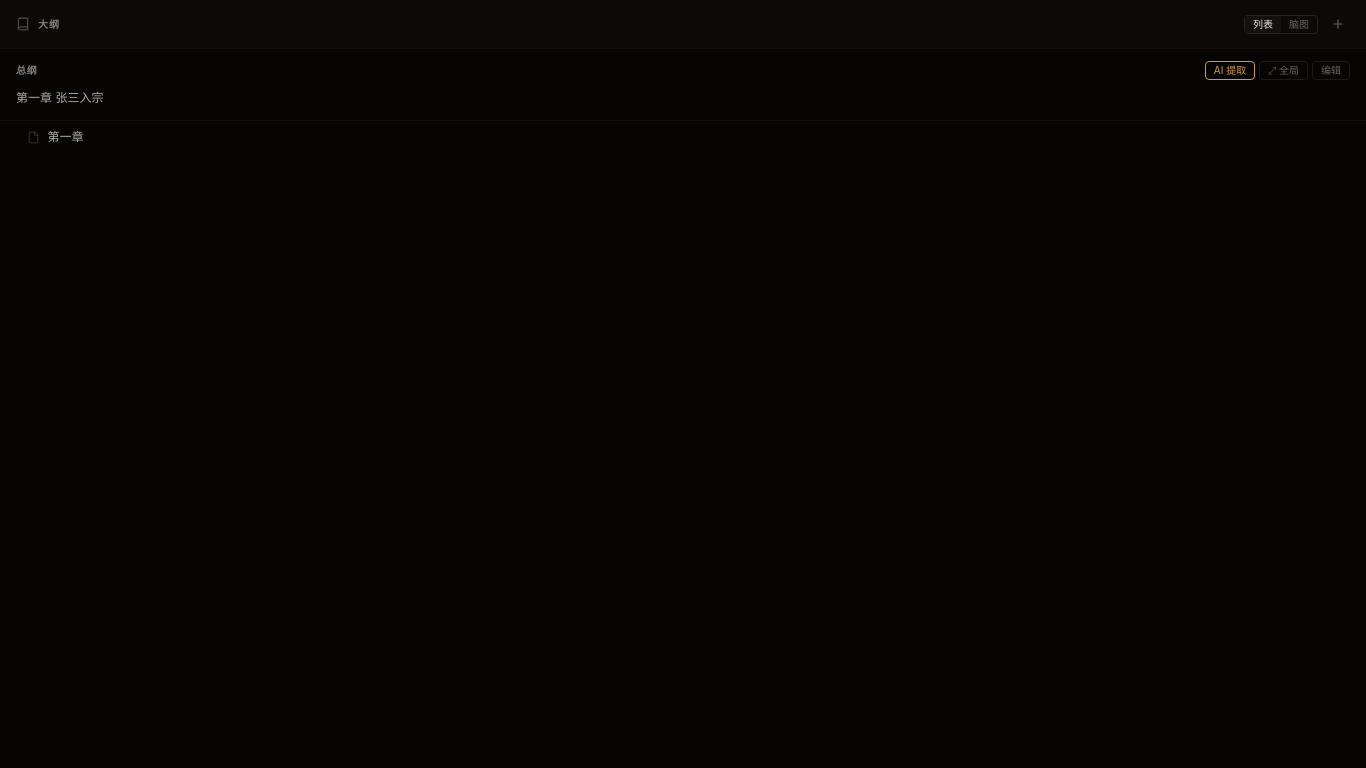
Test: OutlinePanel 全局模式 › 全局模式 opens a centered modal dialog
# Enter edit mode first so the textarea is visible.
Click the button "编辑" at (1331, 70), box [1312,61,1350,80]
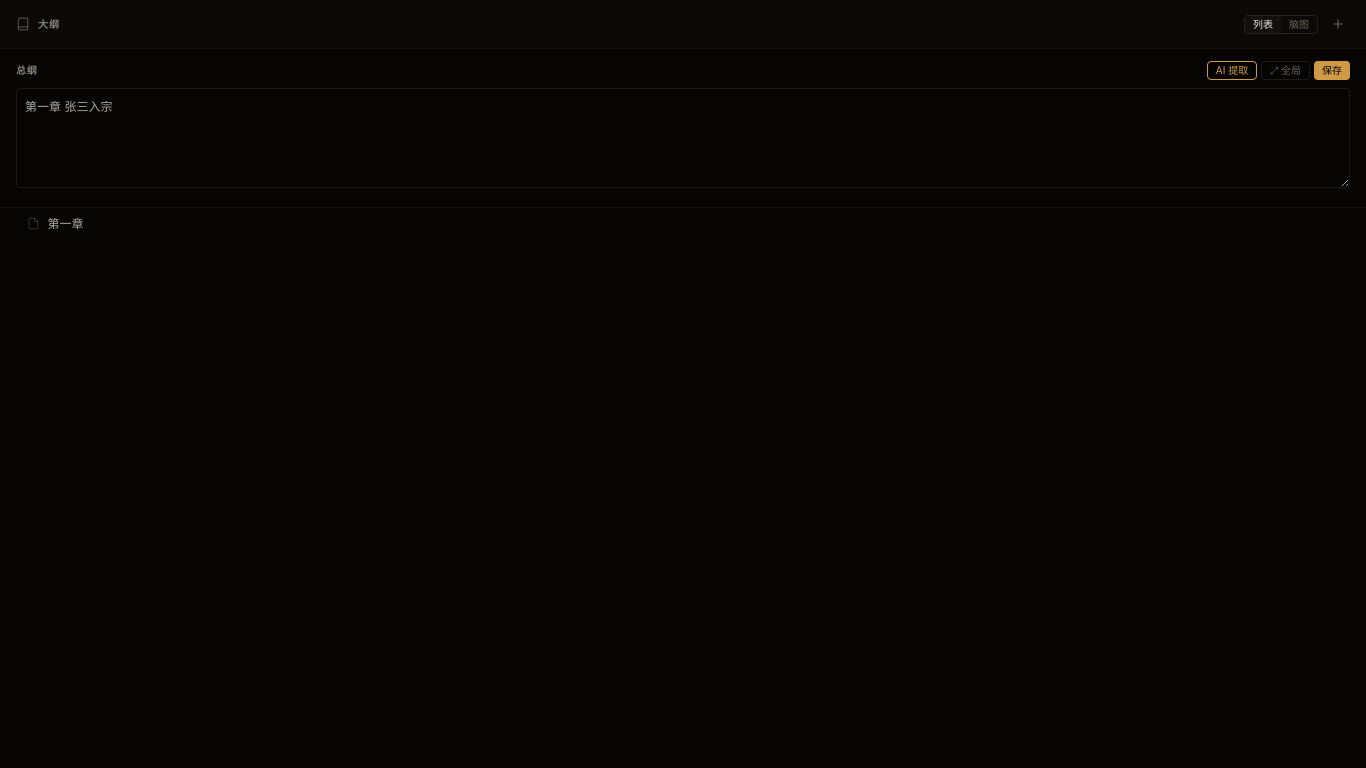
Click the button titled "全局模式" at (1286, 70), box [1261,61,1310,80]
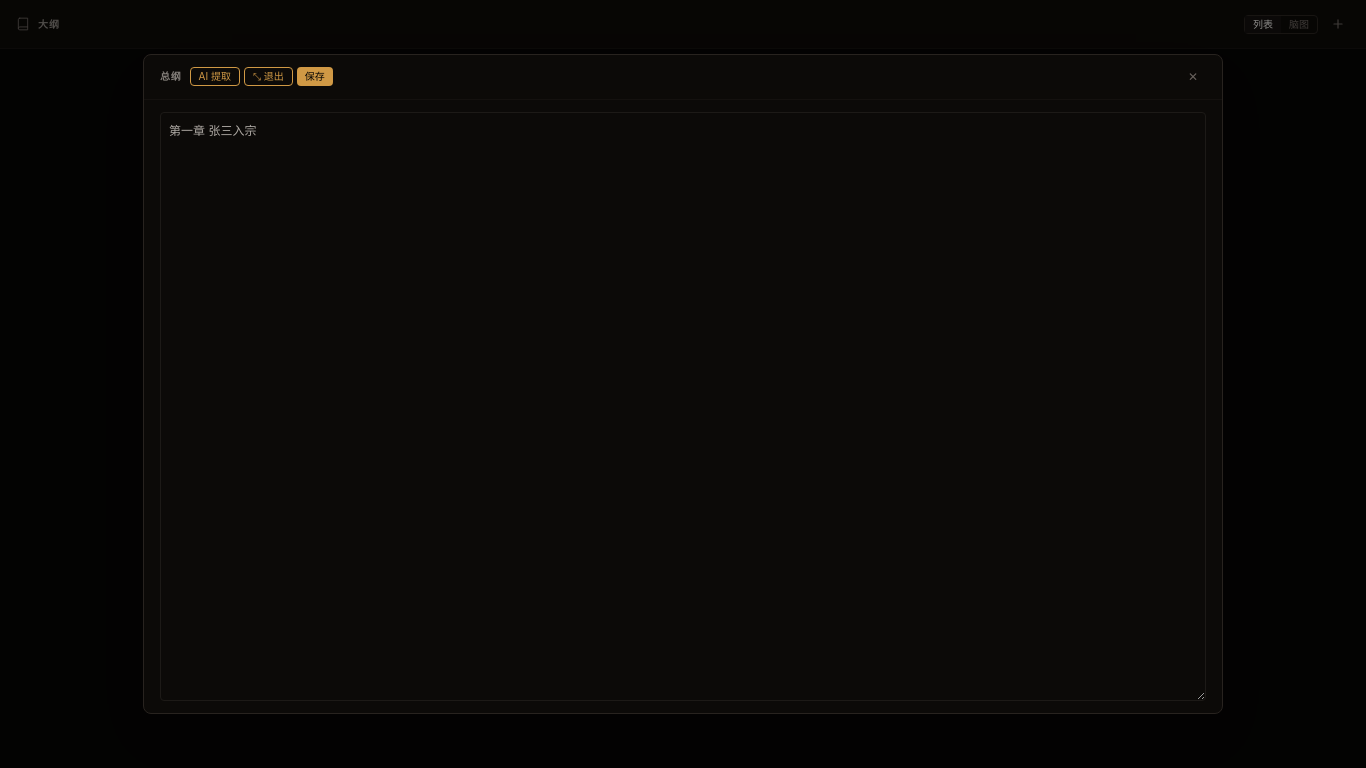
Check: the text box with placeholder "在此编写或粘贴小说大纲" has class "flex-1", box [160,112,1206,701]
# Close via the ✕ button.
Click the button named "退出全局模式" at (1193, 77), box [1180,67,1206,87]
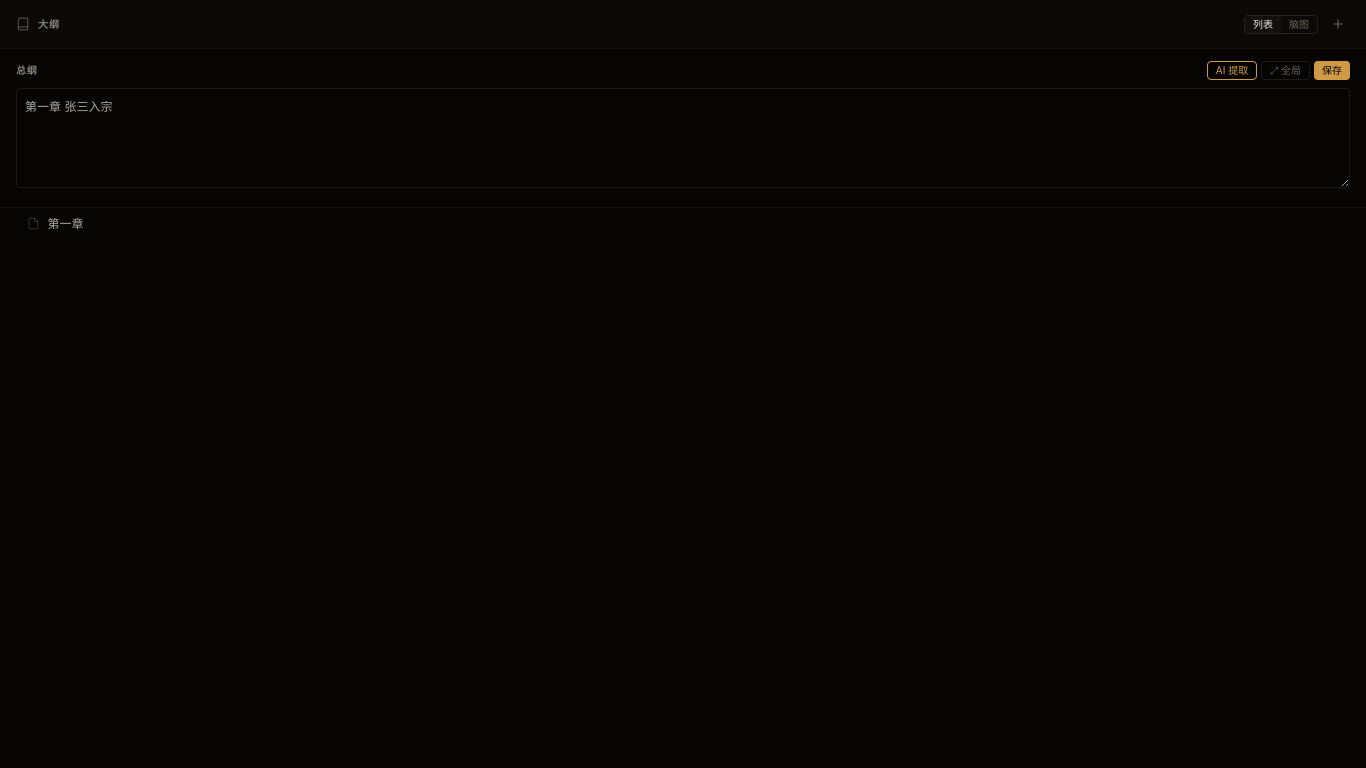
Check: the dialog is gone
